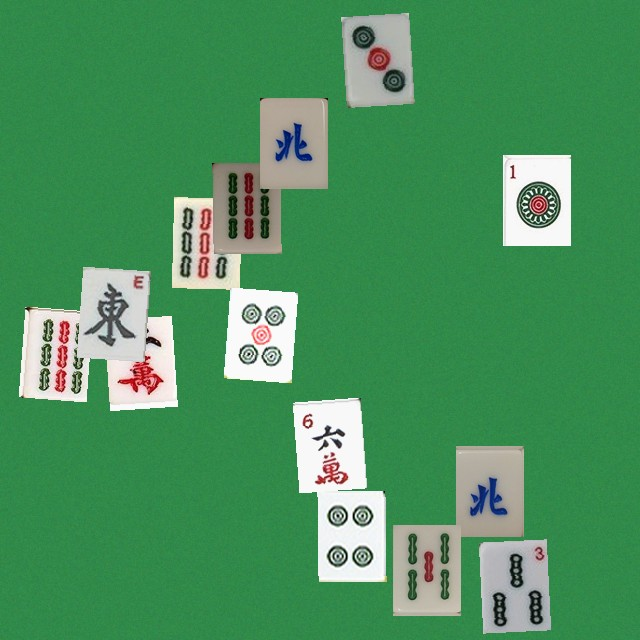tile: (171, 197, 239, 288), (104, 315, 172, 406), (341, 12, 409, 103), (223, 287, 291, 378), (502, 154, 570, 245), (317, 490, 385, 581), (292, 397, 360, 488), (212, 162, 280, 253), (478, 539, 546, 630), (18, 306, 86, 397), (455, 445, 523, 536), (392, 524, 460, 615), (259, 97, 327, 188), (76, 266, 144, 357)
